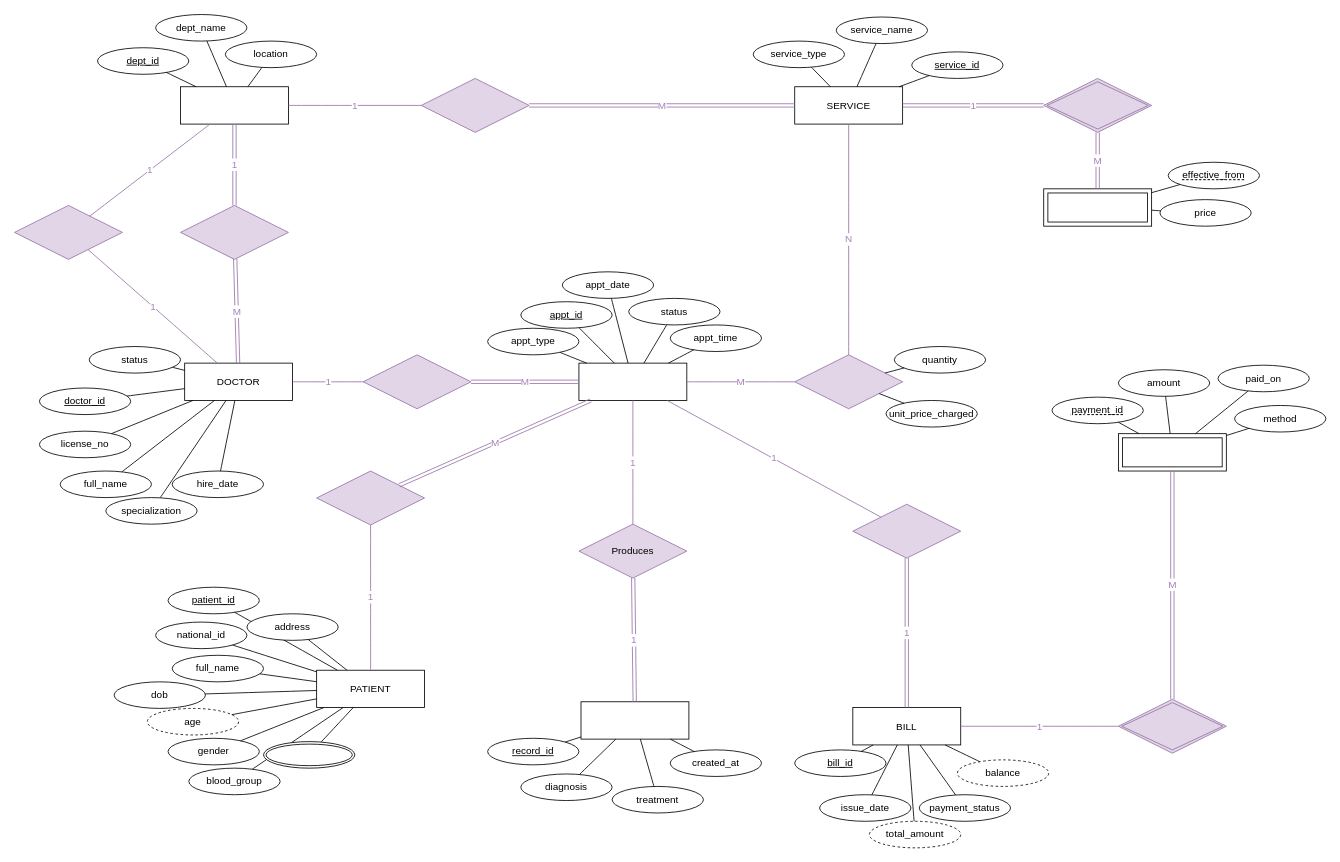
This 1340x862 diagram has some shape labels left out. The centre of each missing label's shape, as x and y in pixels:
APPOINTMENT: [632,381]
Billed_as: [906,530]
Books: [370,497]
DEPARTMENT: [234,105]
Employs: [234,232]
Handles: [416,381]
Headed_by: [68,232]
Includes: [848,381]
MEDICAL RECORD: [634,720]
Offers: [474,105]
PAYMENT: [1172,452]
phone: [309,754]
Priced_at: [1097,105]
SERVICE PRICE: [1097,207]
Settled_by: [1172,725]
